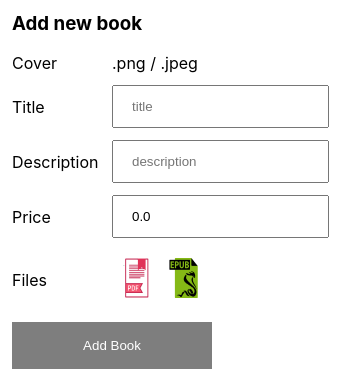
AddBook › Add book button should not be disabled after input change
Expected: the button "Add Book" is shown, top-left (12, 322), bottom-right (212, 369)
Step 1. Replace the text in the number field with placeholder "Price in ETH" with "0.001" → (220, 217), box top-left (112, 195), bottom-right (329, 238)
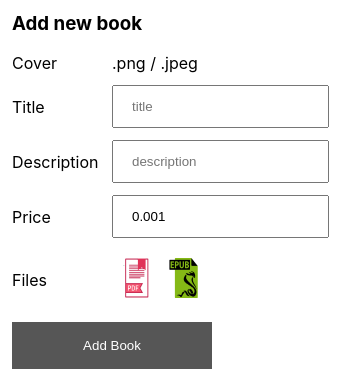
Now the button "Add Book" is enabled, box top-left (12, 322), bottom-right (212, 369)
